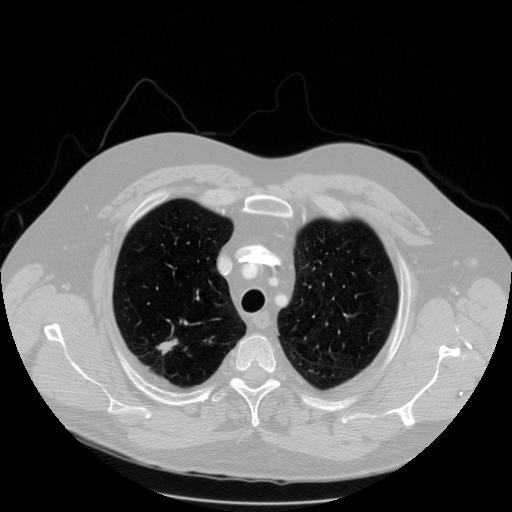nodule: (155, 332, 180, 357)
